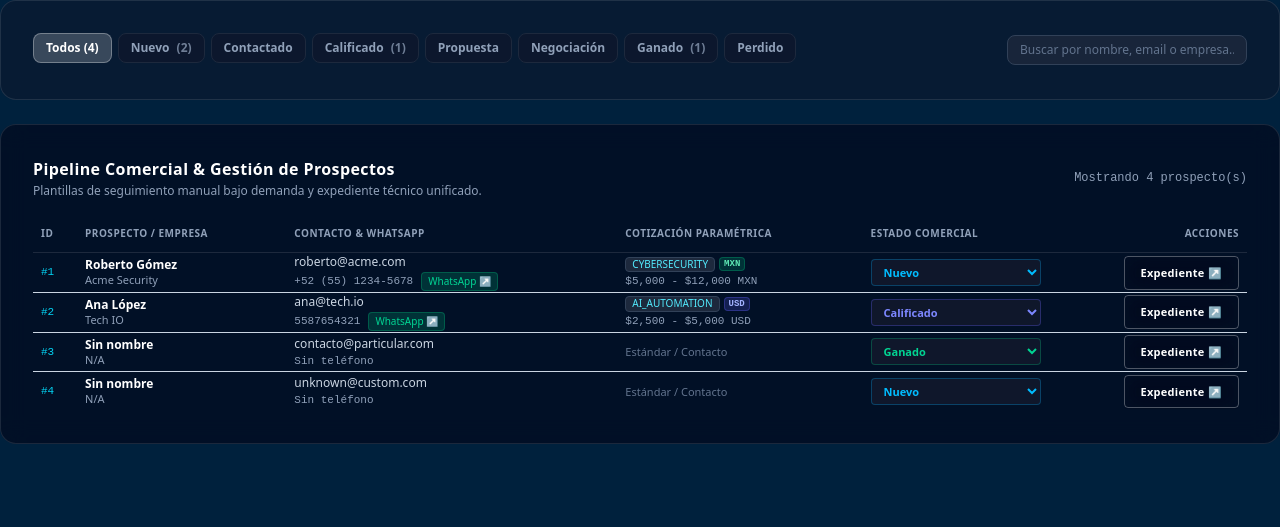
Test case: LeadCrmPipeline Component Suite (FC 041 100% Coverage) › debe actualizar el estado comercial de un lead desde el selector de la tabla
Select "Contactado" in the dropdown in the row of "Roberto Gómez" at (956, 273), box [870,259,1041,286]
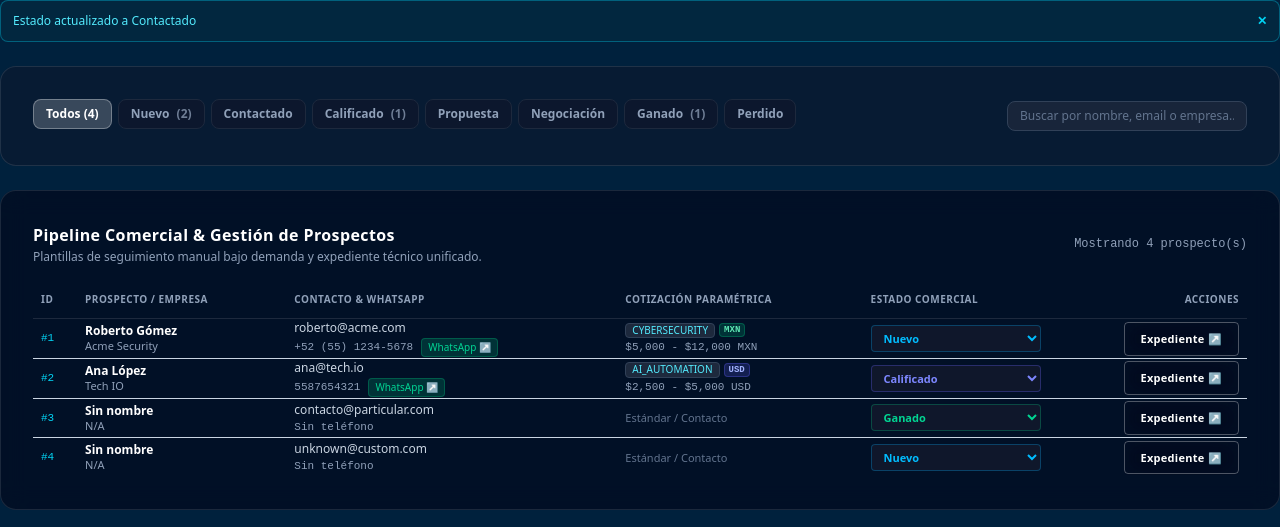
Now the text "Estado actualizado a Contactado" is shown, box [13,13,196,29]
